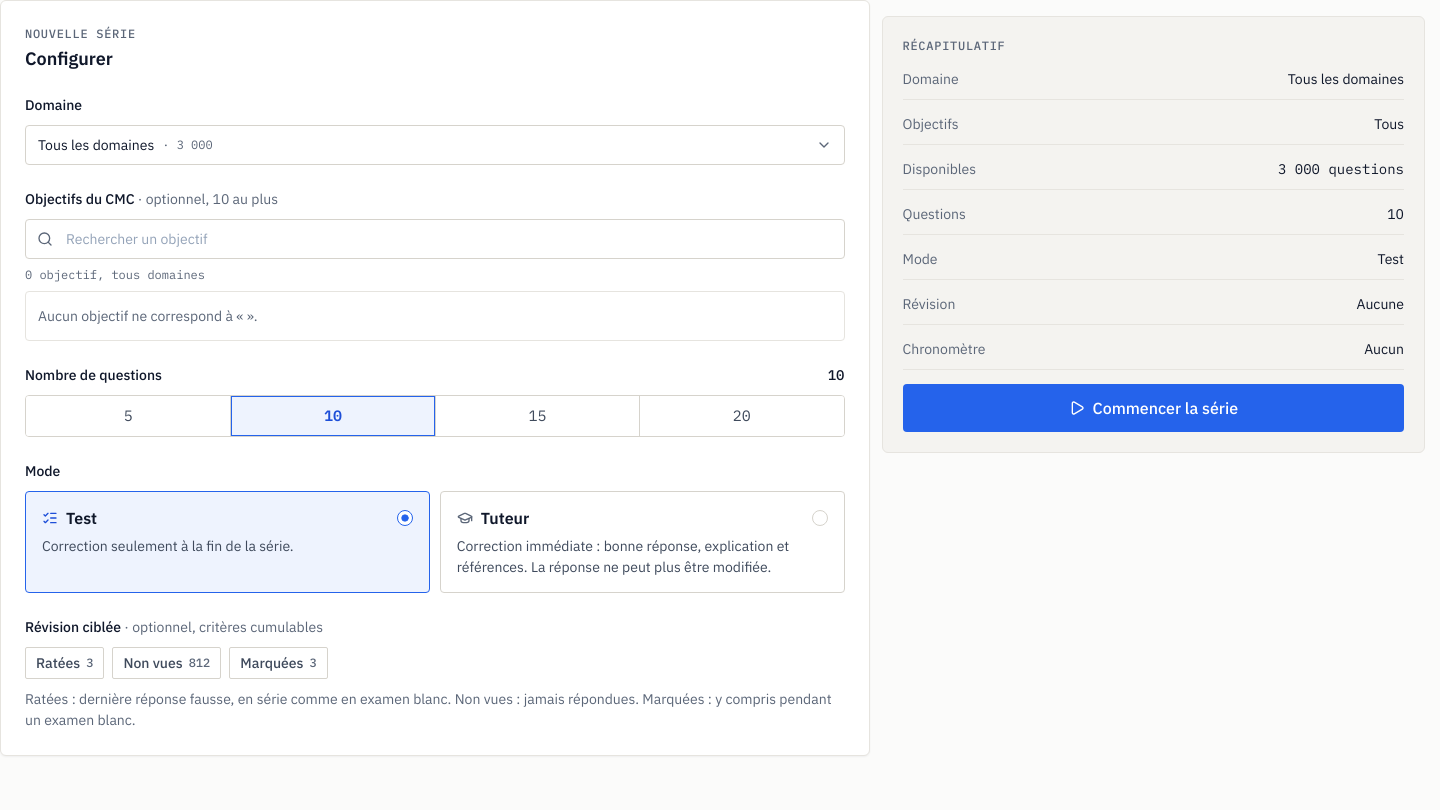
Scenario: TrainingConfigForm — nombre de questions › en révision, un maximum sous 5 retombe sur le plus petit palier quand le corpus grandit
This screenshot has width=1440, height=810.
expect the text "3 000 questions" is shown: met, box [1278,159,1404,179]
Click the button with test id "revision-failed": x=65, y=663 [25,647,104,679]
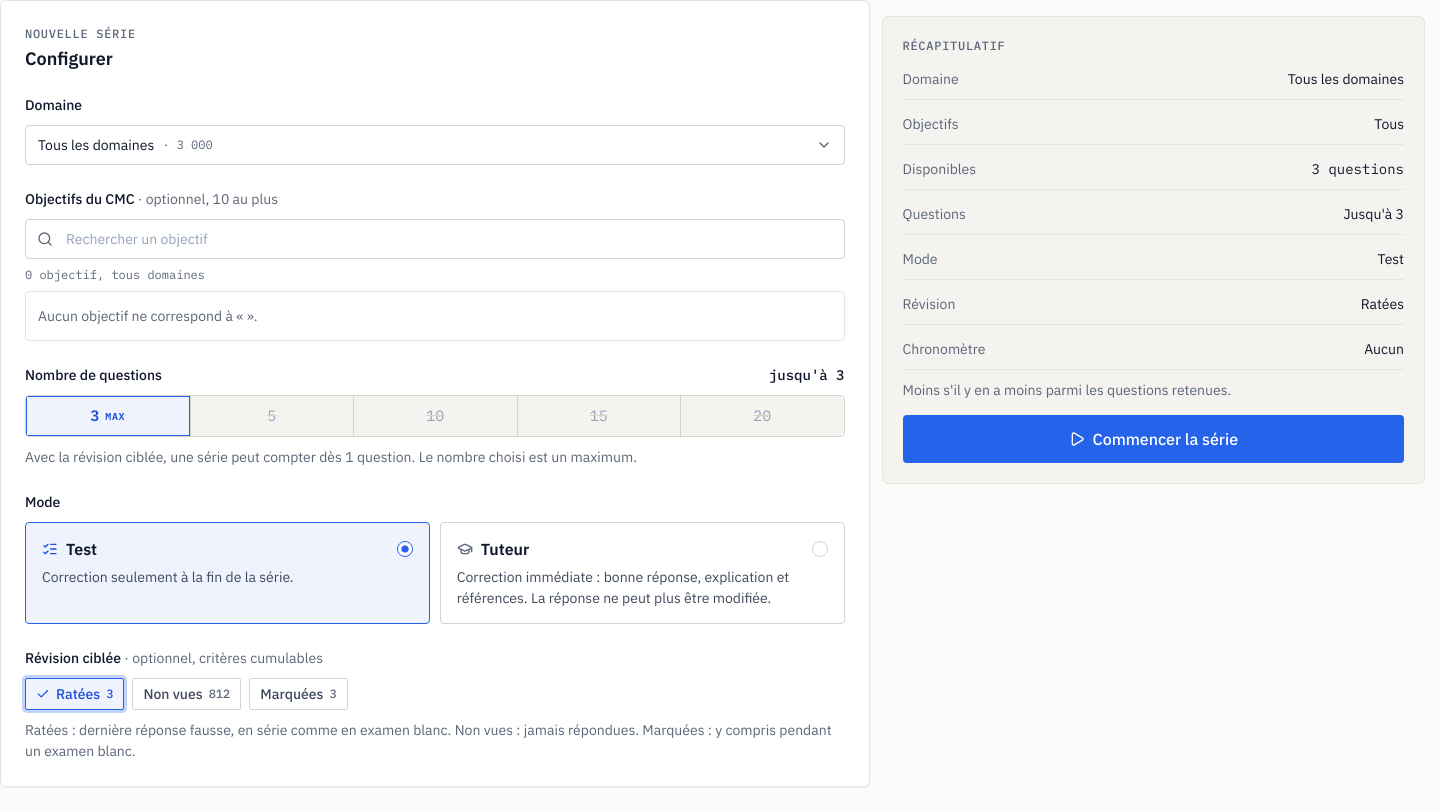
Click the button with aria-label "3, maximum": x=108, y=416 [26,396,190,436]
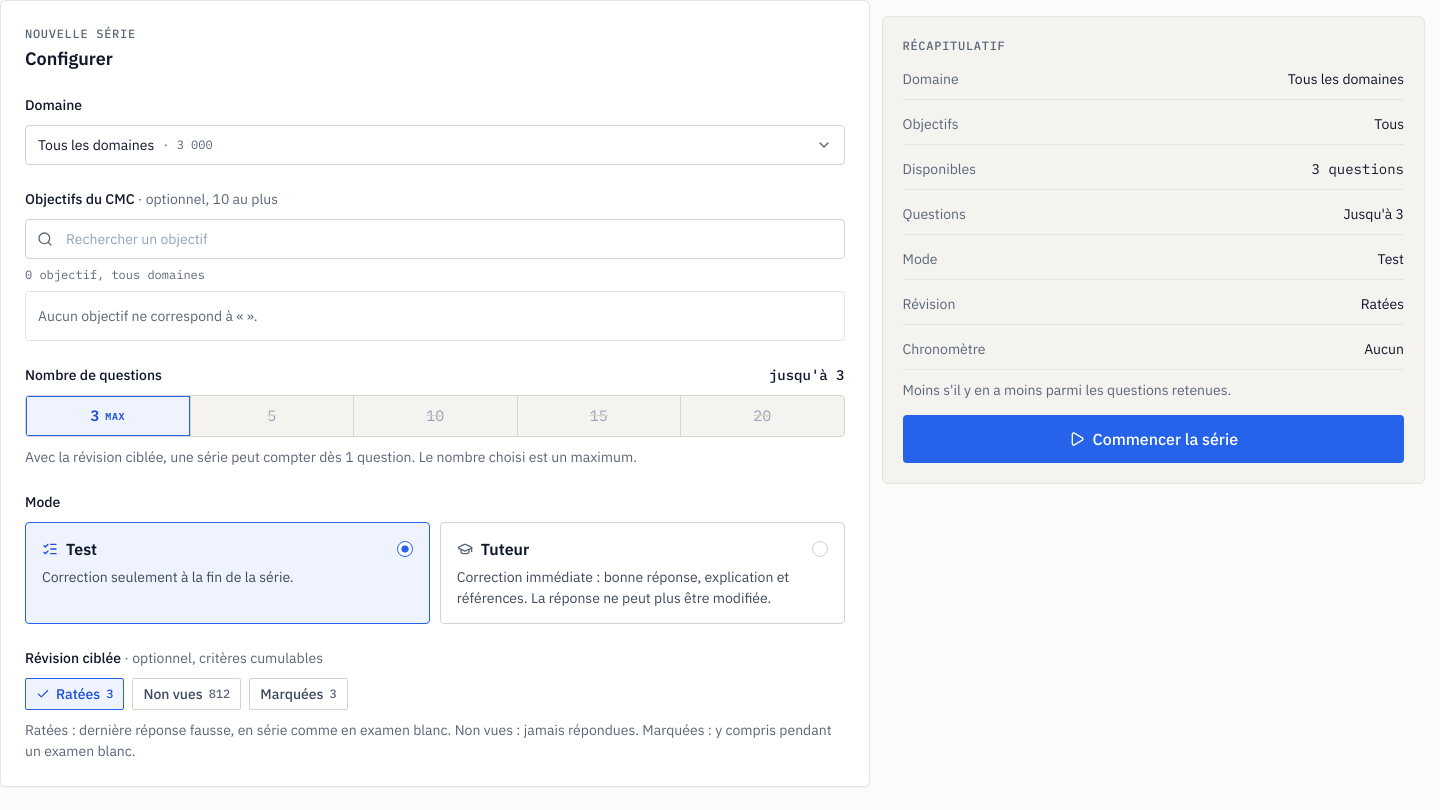
Click the button with test id "revision-unseen": x=187, y=694 [132,678,241,710]
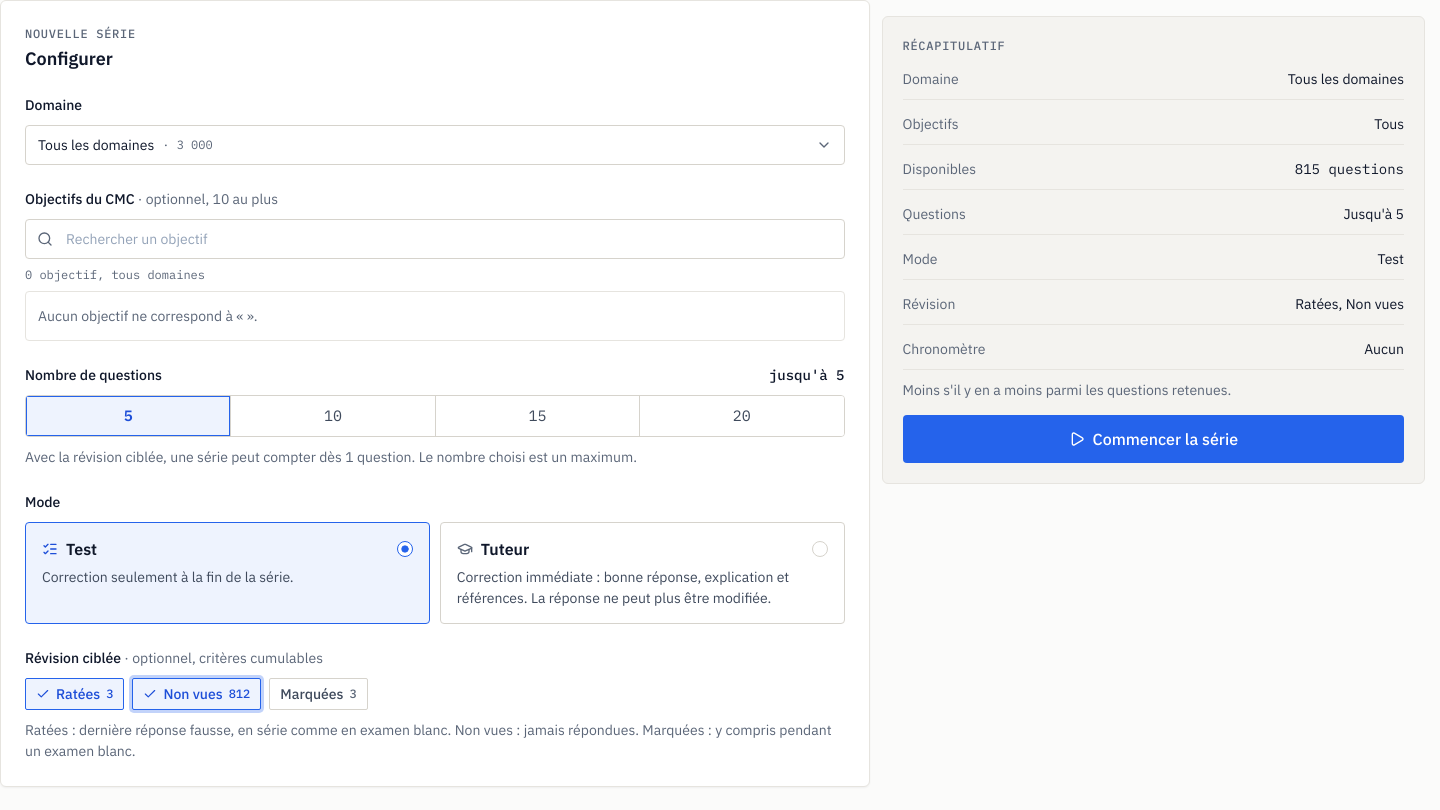
expect the text with test id "question-count" reads "jusqu'à 5": met, box [769,366,844,384]
